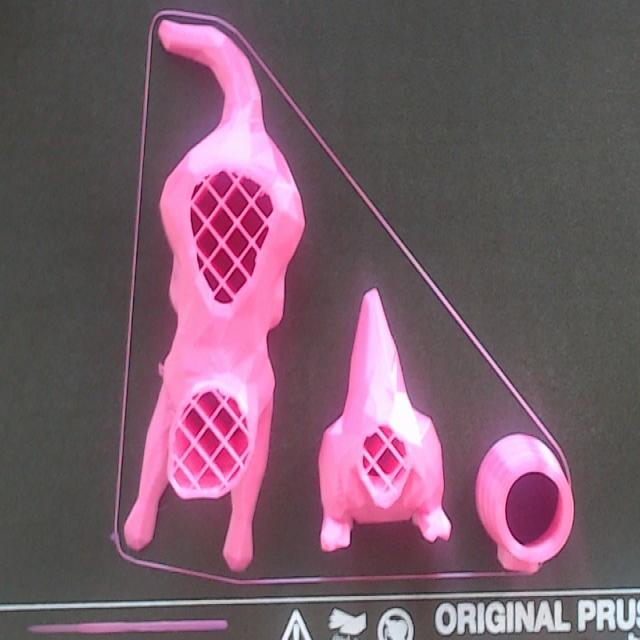mistake: (159, 361, 163, 377)
